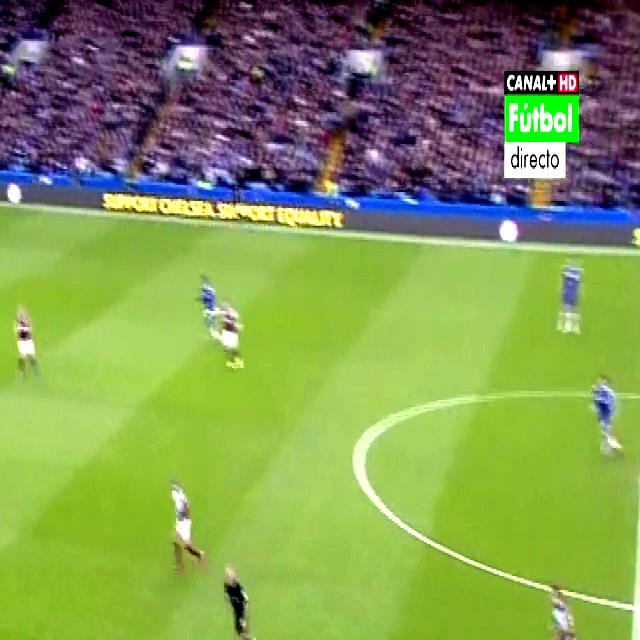referee: (216, 553, 261, 640)
soccer-player: (159, 464, 206, 580), (536, 563, 596, 640), (588, 362, 624, 466), (552, 245, 585, 346), (9, 290, 45, 381), (218, 292, 250, 379), (190, 259, 220, 342)
